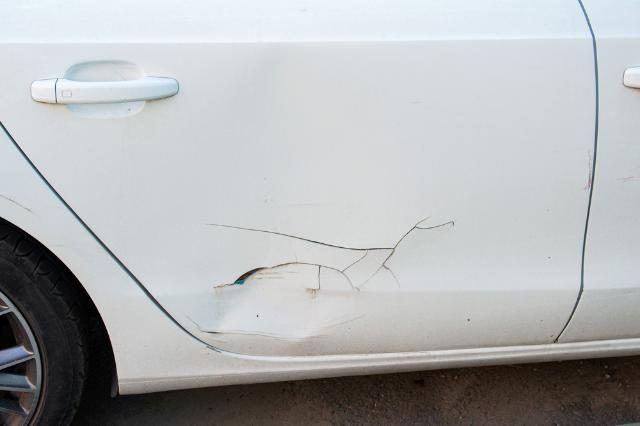crack: (202, 216, 455, 292)
dent: (213, 268, 313, 347)
